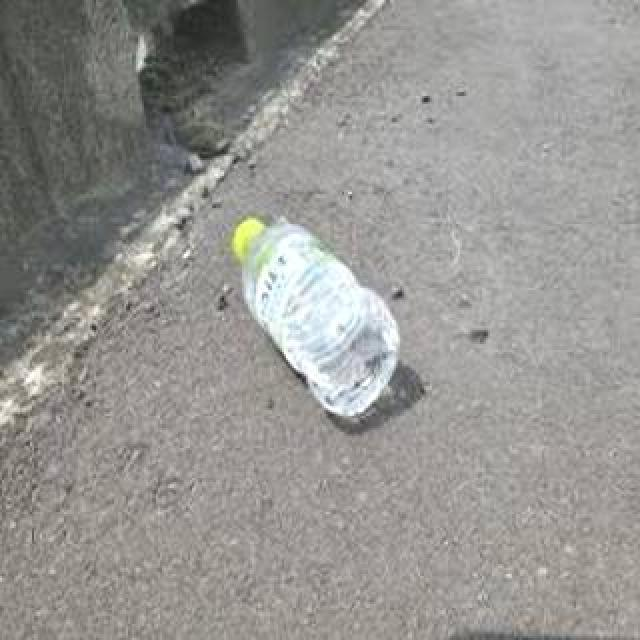Pet_Bottle: (229, 210, 405, 428)
